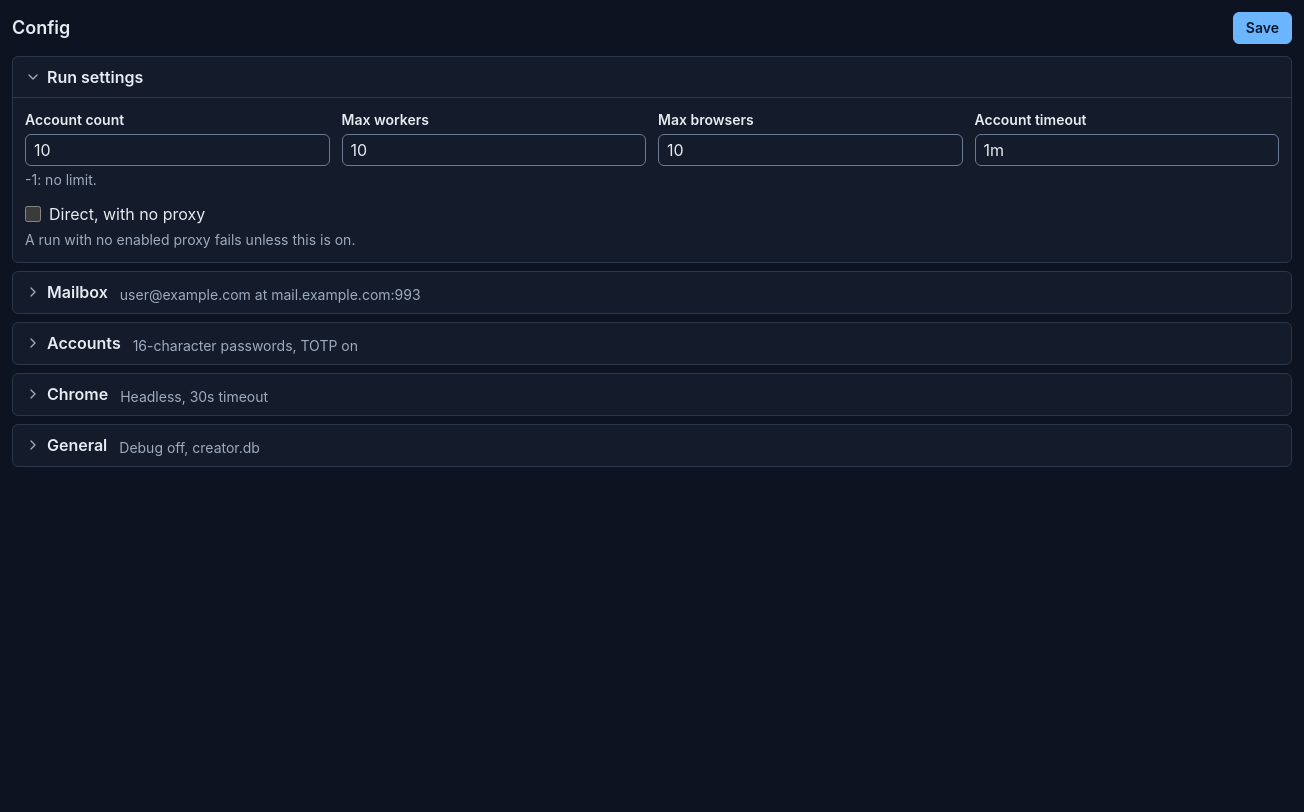
Scenario: RunForm › is the config region with its heading and the one primary Save
This screenshot has width=1304, height=812.
Click the heading "Mailbox": click(223, 292) [25,282,421,303]
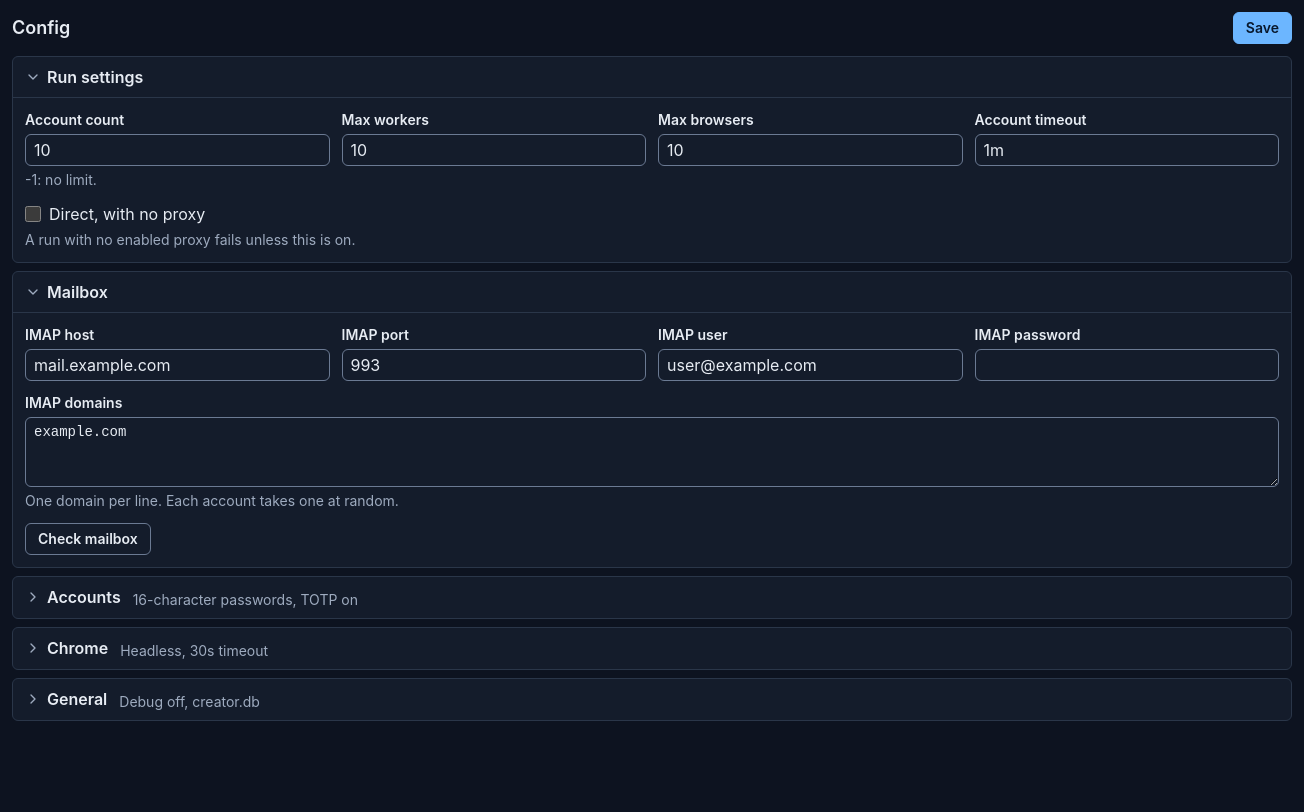
Check: the heading "Config" is shown, box [12,14,70,42]
Check: the password field labelled "IMAP password" is shown, box [974,349,1279,381]
